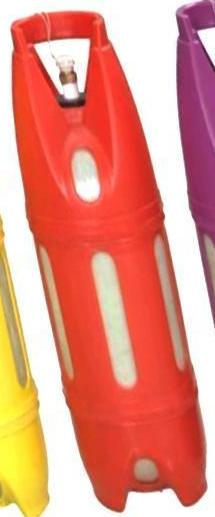cylinder: (1, 1, 215, 517)
